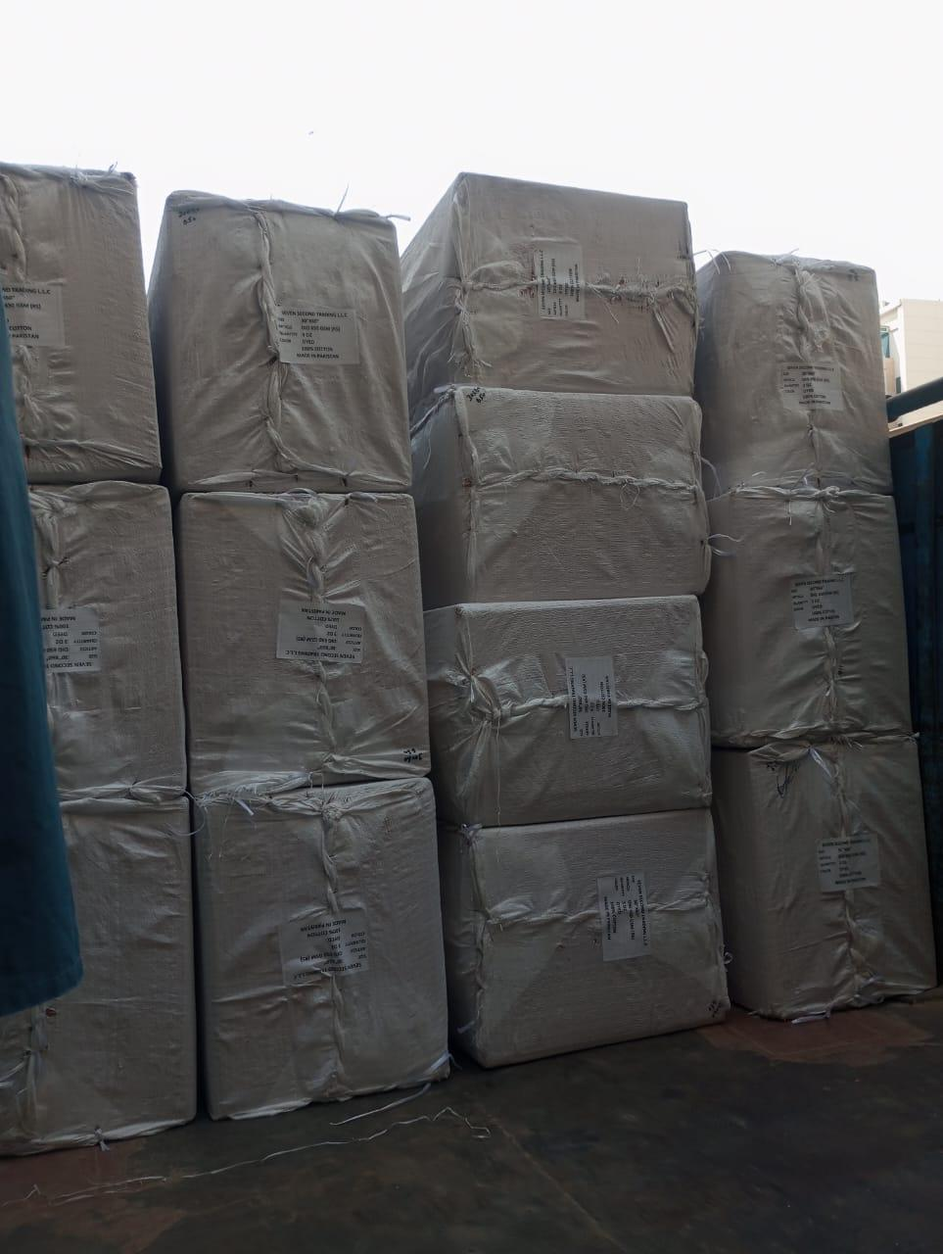carton: (195, 780, 448, 1118), (149, 191, 410, 492), (177, 492, 429, 795), (440, 809, 729, 1067), (402, 173, 695, 417), (0, 798, 197, 1153), (412, 387, 710, 609), (425, 597, 710, 827), (713, 737, 935, 1019), (702, 487, 910, 747), (0, 164, 161, 483), (30, 482, 186, 800), (695, 252, 891, 496)
